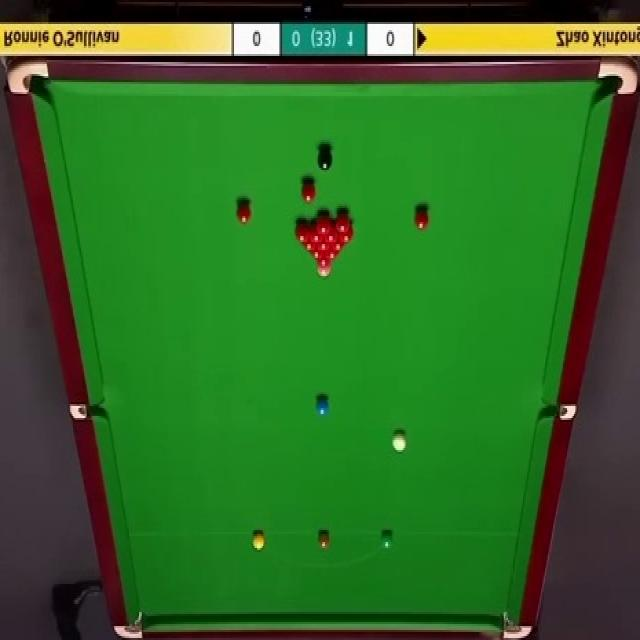pocket: (597, 57, 637, 98), (6, 62, 51, 98), (111, 606, 145, 640), (499, 608, 532, 640), (540, 403, 576, 422), (70, 401, 103, 417)
